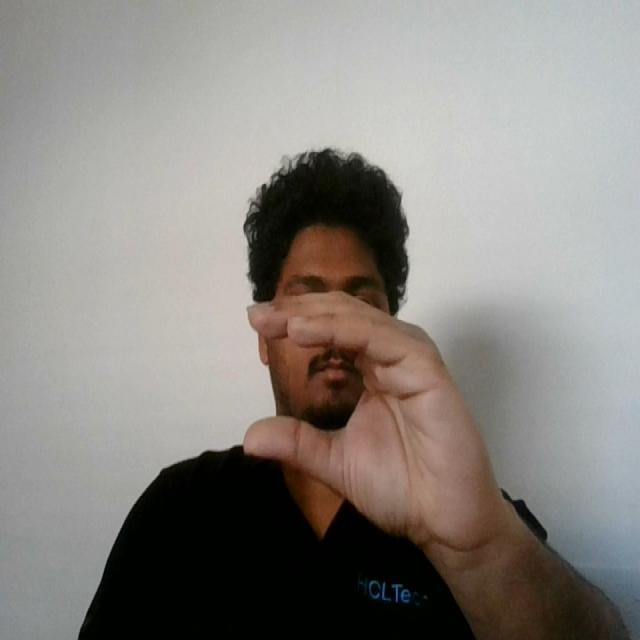No: (233, 282, 511, 568)
